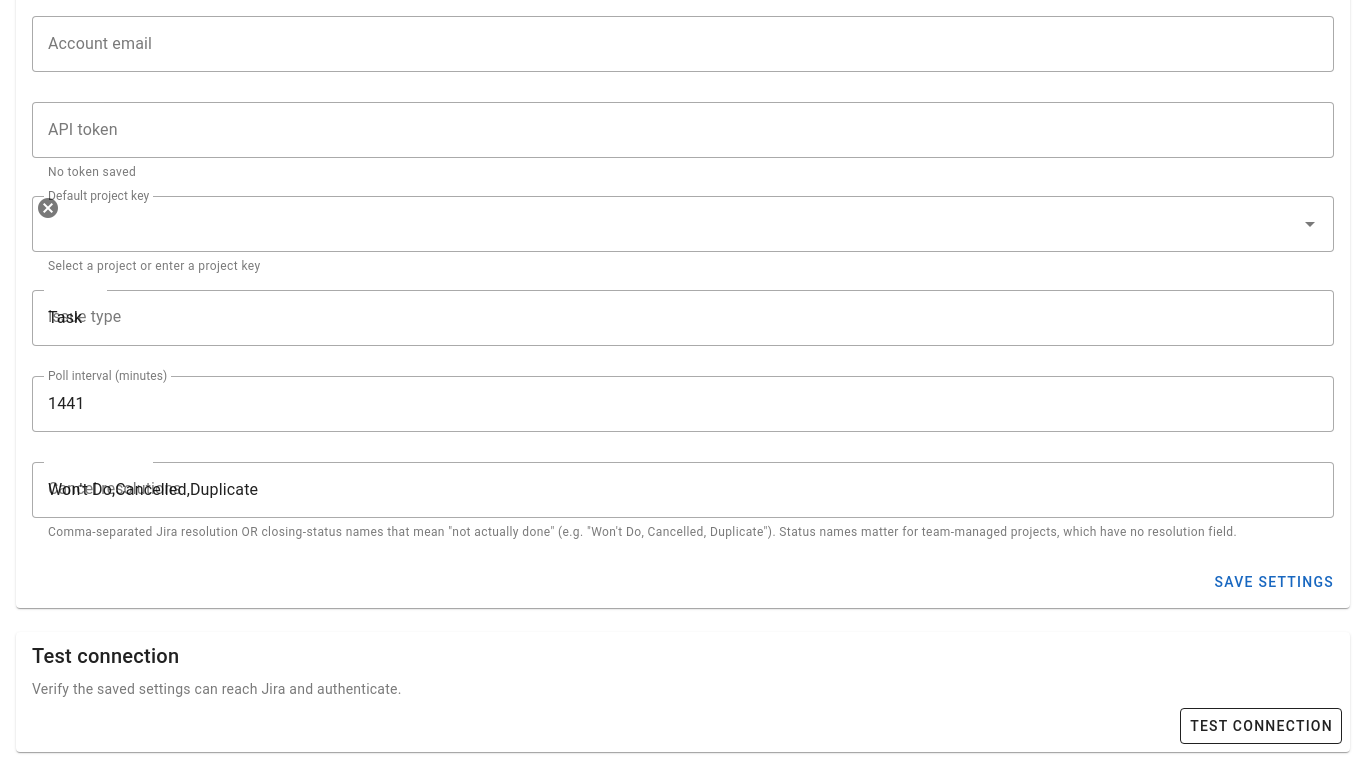
JiraSettingsPage › other field validation › rejects an out-of-range poll interval
(page scrolled)
Click the button "Save settings" at (1274, 582), box [1205, 564, 1342, 600]
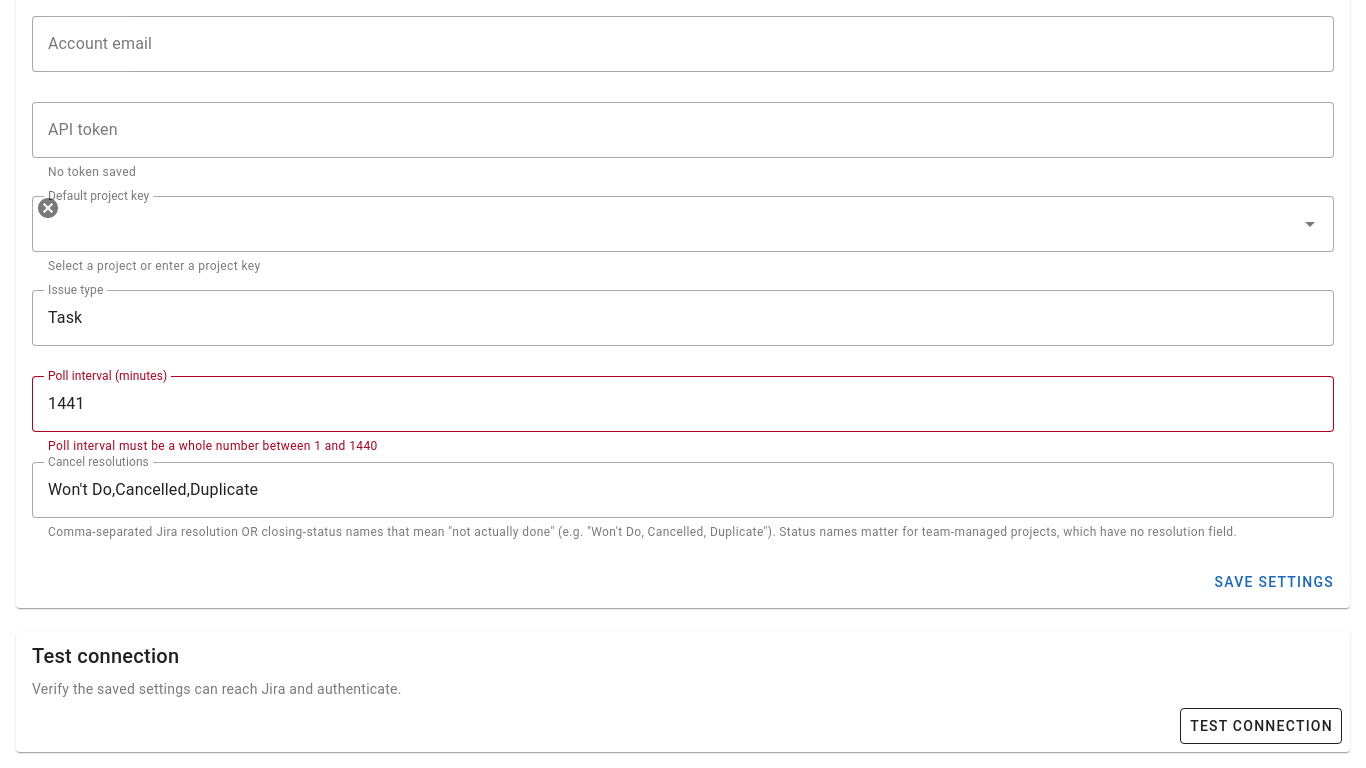
Expected: the text "Poll interval must be a whole number between 1 and 1440" is shown, [48, 439, 378, 453]
